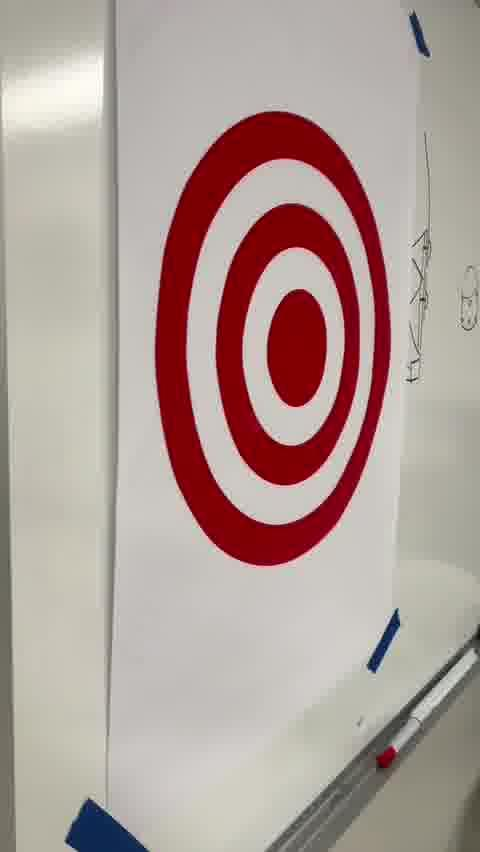target_red: (152, 110, 393, 566)
